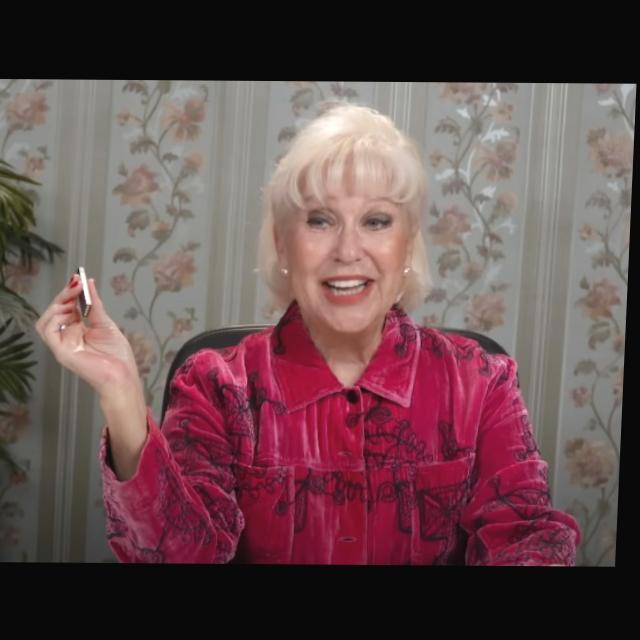vape: (77, 265, 97, 317)
